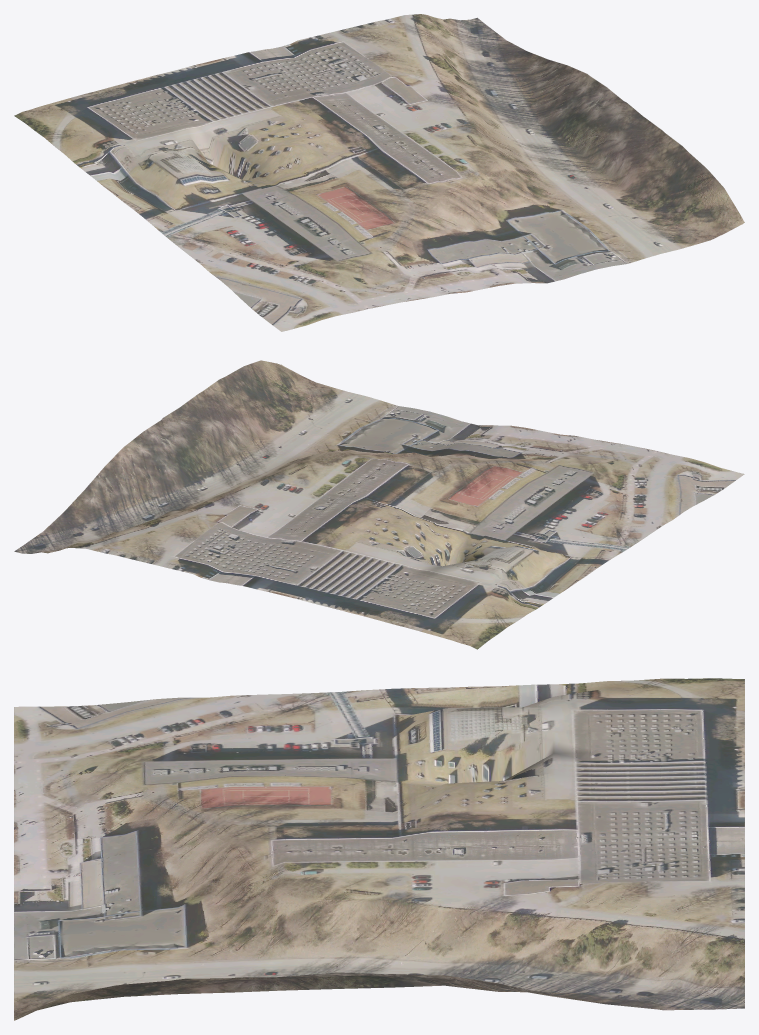
The model's file is CM_Terrain_24488206_6820408.fbx.
The picture shows the model from 3 angles, top to bottom: view 1: azimuth 30°, elevation 25°; view 2: azimuth 150°, elevation 25°; view 3: azimuth 270°, elevation 25°; orthographic projection. The views are drawn at different scales.
Visible parts, largest first — view 1: CM_Terrain_24488206_6820408_LOD0; view 2: CM_Terrain_24488206_6820408_LOD0; view 3: CM_Terrain_24488206_6820408_LOD0.
Boxes of the visible parts, x1=… form: CM_Terrain_24488206_6820408_LOD0: x1=14, y1=14, x2=744, y2=331; CM_Terrain_24488206_6820408_LOD0: x1=14, y1=360, x2=744, y2=649; CM_Terrain_24488206_6820408_LOD0: x1=14, y1=678, x2=744, y2=1020.
Size of what is drawn, in the model's own units: 205 by 28.84 by 205.
